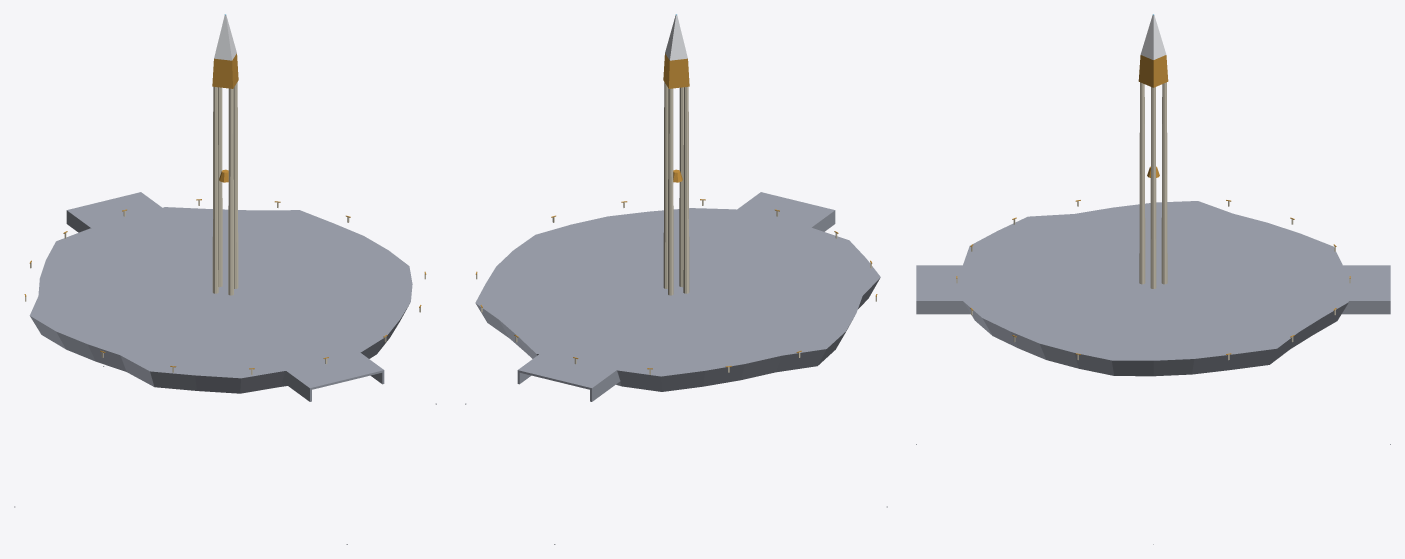
Rendered from chunk_es_cloudstone_yard.fbx.
The picture shows the model from 3 angles, left to right: view 1: azimuth 30°, elevation 25°; view 2: azimuth 150°, elevation 25°; view 3: azimuth 270°, elevation 25°; orthographic projection. The views are drawn at different scales.
Visible parts, largest first — view 1: ES_CLOUDSTONE_YARD; view 2: ES_CLOUDSTONE_YARD; view 3: ES_CLOUDSTONE_YARD.
Boxes of the visible parts, <box> form: ES_CLOUDSTONE_YARD: <box>14,14,436,544</box>; ES_CLOUDSTONE_YARD: <box>465,14,887,544</box>; ES_CLOUDSTONE_YARD: <box>916,14,1390,544</box>.
Size of the model in its own units: 256 by 256 by 256.
